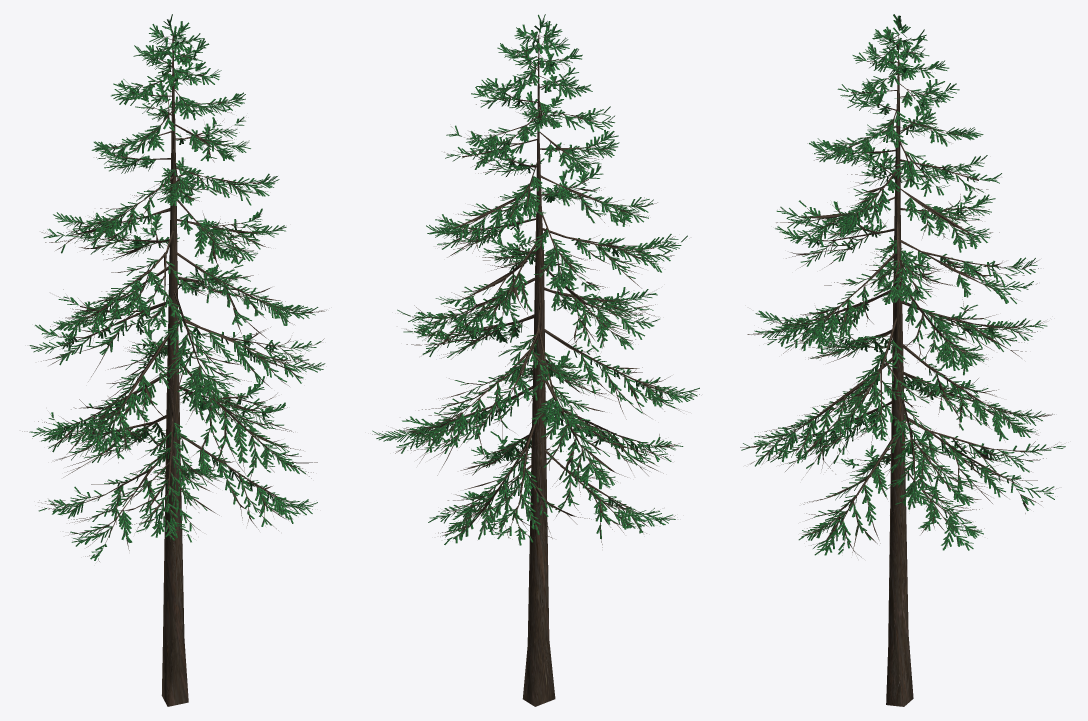
Rendered from TreePine1.fbx.
3 renders of one model, left to right at view 1: azimuth 30°, elevation 25°; view 2: azimuth 150°, elevation 25°; view 3: azimuth 270°, elevation 25°, orthographic.
Parts seen in each view (by area): view 1: pine1.001; view 2: pine1.001; view 3: pine1.001.
Boxes of the visible parts, box(x1,y1,x2,y2) form: pine1.001: box(22, 14, 326, 706); pine1.001: box(372, 14, 699, 706); pine1.001: box(740, 14, 1065, 706).
Size of the model in its own units: 1999 by 4496 by 2026.
Materials: 2 (2 with a texture image).
